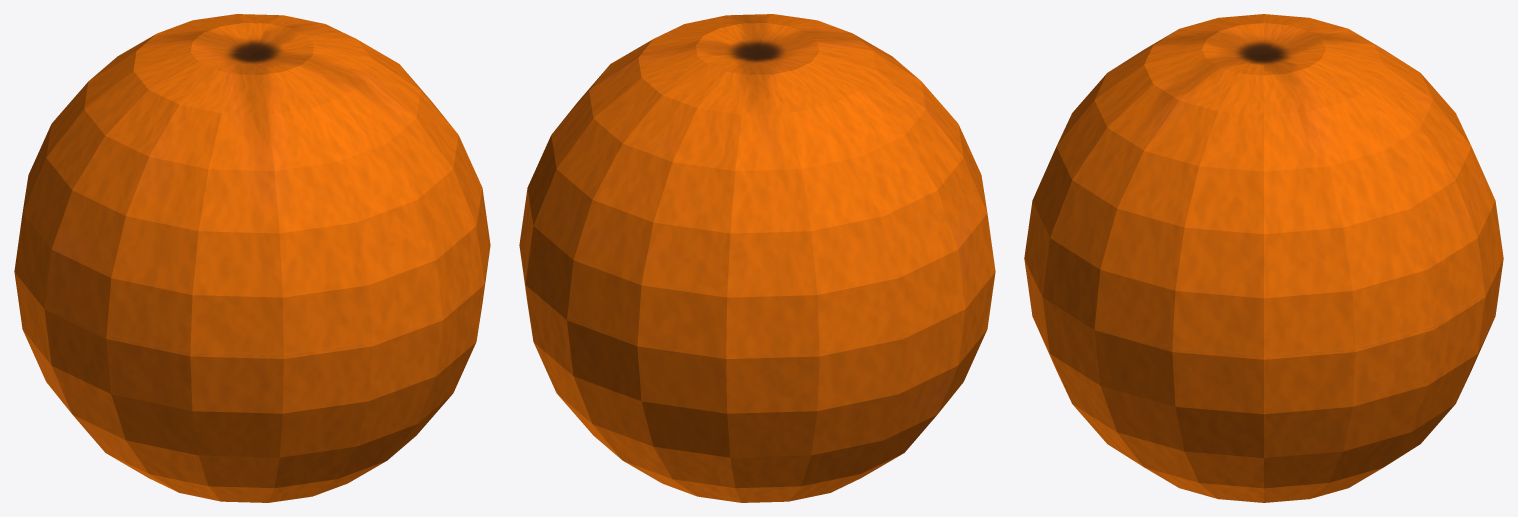
Rendered from Orange.fbx.
3 renders of one model, left to right at view 1: azimuth 30°, elevation 25°; view 2: azimuth 150°, elevation 25°; view 3: azimuth 270°, elevation 25°, orthographic.
Visible parts, largest first — view 1: Sphere; view 2: Sphere; view 3: Sphere.
Boxes of the visible parts, left/top/right/bottom form: Sphere: left=14, top=14, right=490, bottom=502; Sphere: left=519, top=14, right=995, bottom=502; Sphere: left=1024, top=14, right=1503, bottom=502.
Size of the model in its own units: 200 by 198 by 200.
Materials: 1 (1 with a texture image).
